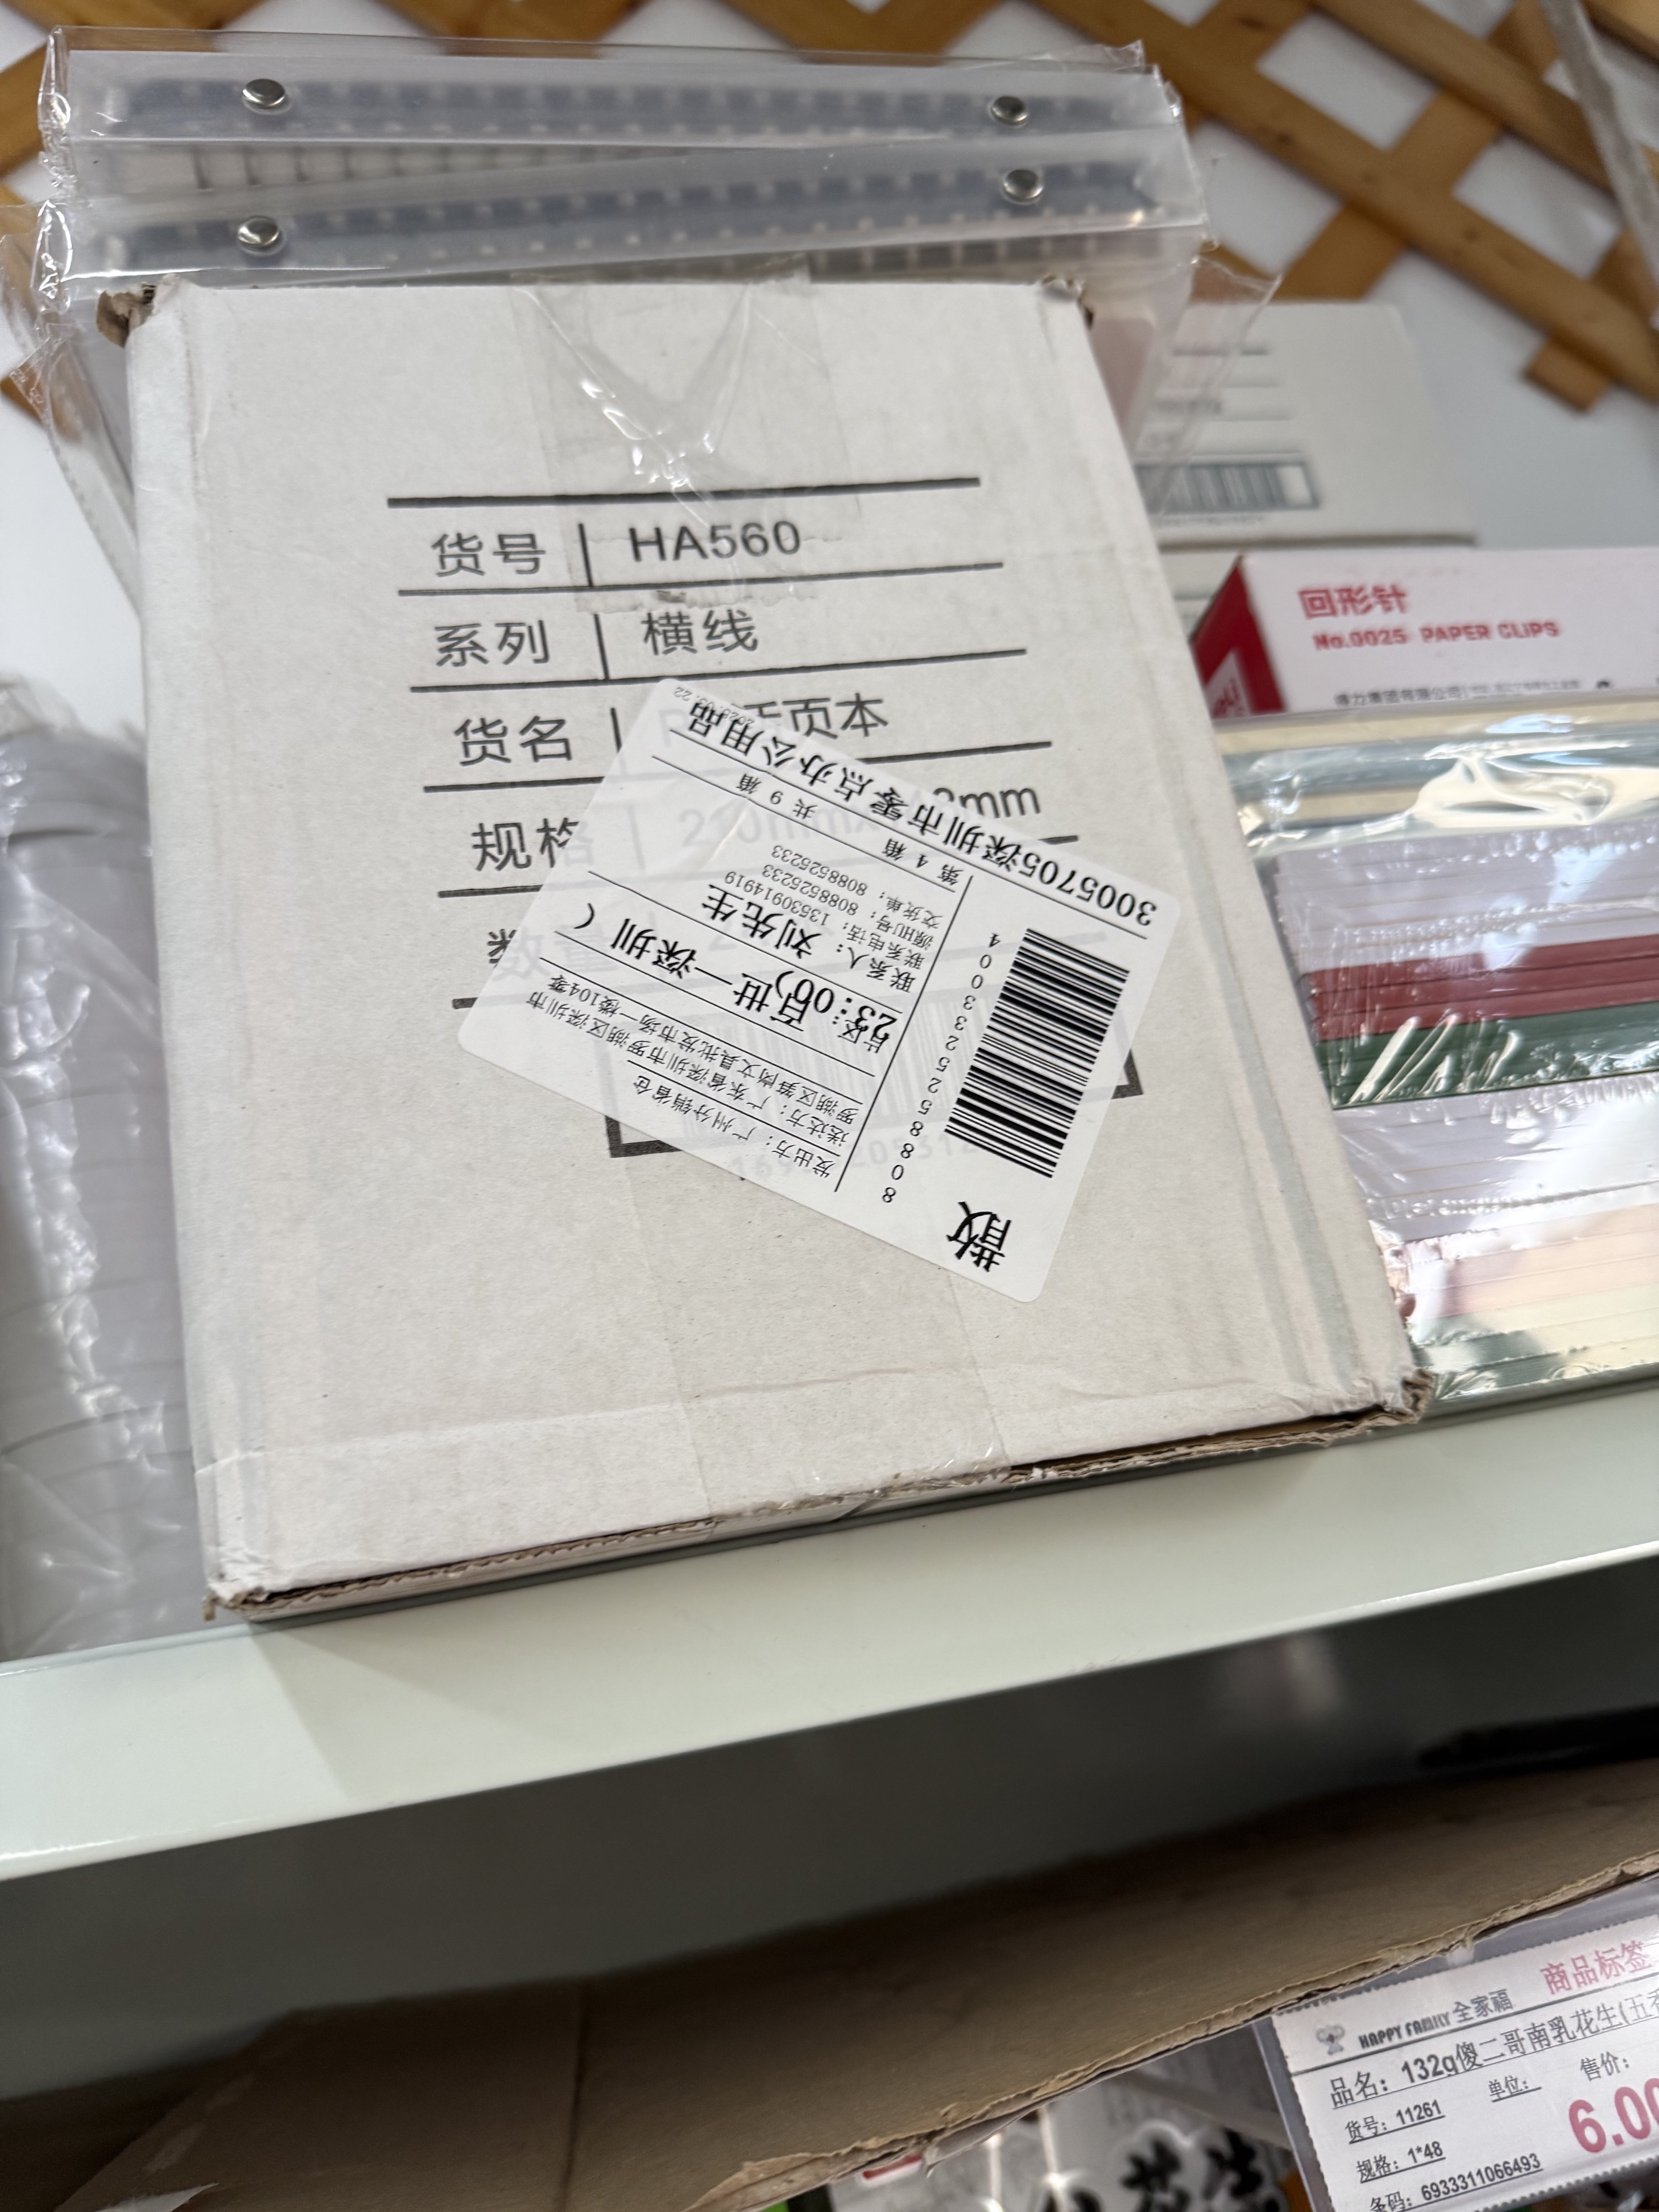bar: (929, 918, 1141, 1186)
